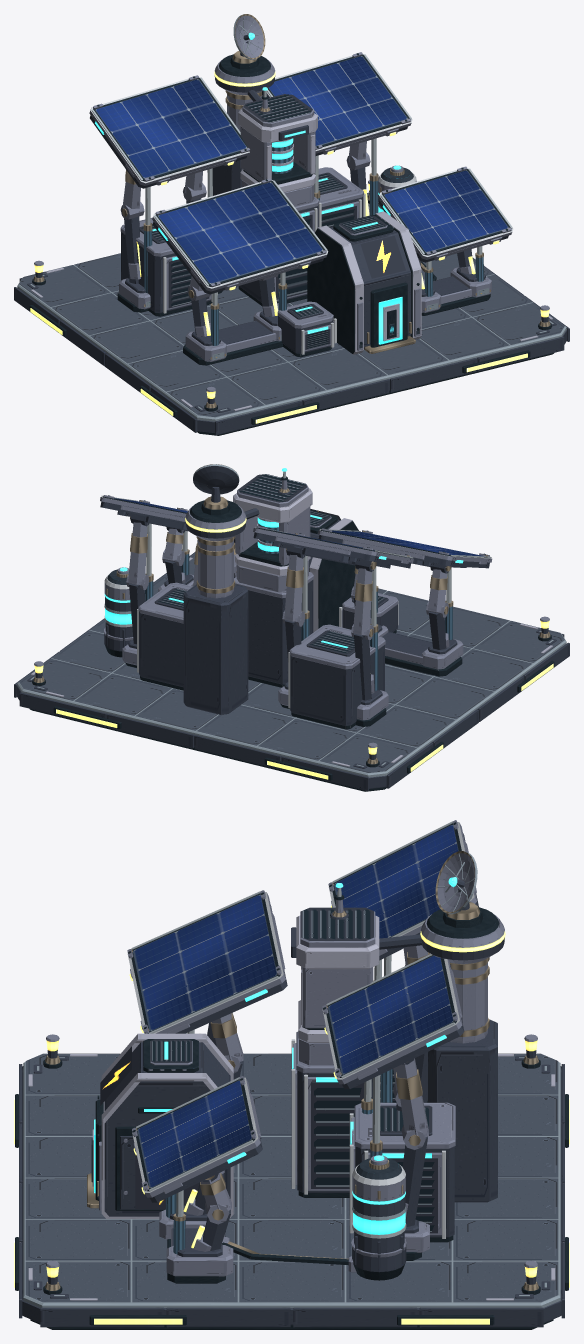
File: PS03_PlantaSolarAvanzada.fbx
3 renders of one model, top to bottom at view 1: azimuth 30°, elevation 25°; view 2: azimuth 150°, elevation 25°; view 3: azimuth 270°, elevation 25°, orthographic. The views are drawn at different scales.
Parts seen in each view (by area): view 1: PlantaSolar_3; view 2: PlantaSolar_3; view 3: PlantaSolar_3.
Part boxes in pixels (box(x1,y1,x2,y2)): PlantaSolar_3: box(14, 14, 569, 435); PlantaSolar_3: box(14, 464, 569, 791); PlantaSolar_3: box(14, 820, 569, 1329).
Bounding box in the file's own units: 7.08 × 4.65 × 6.44.
